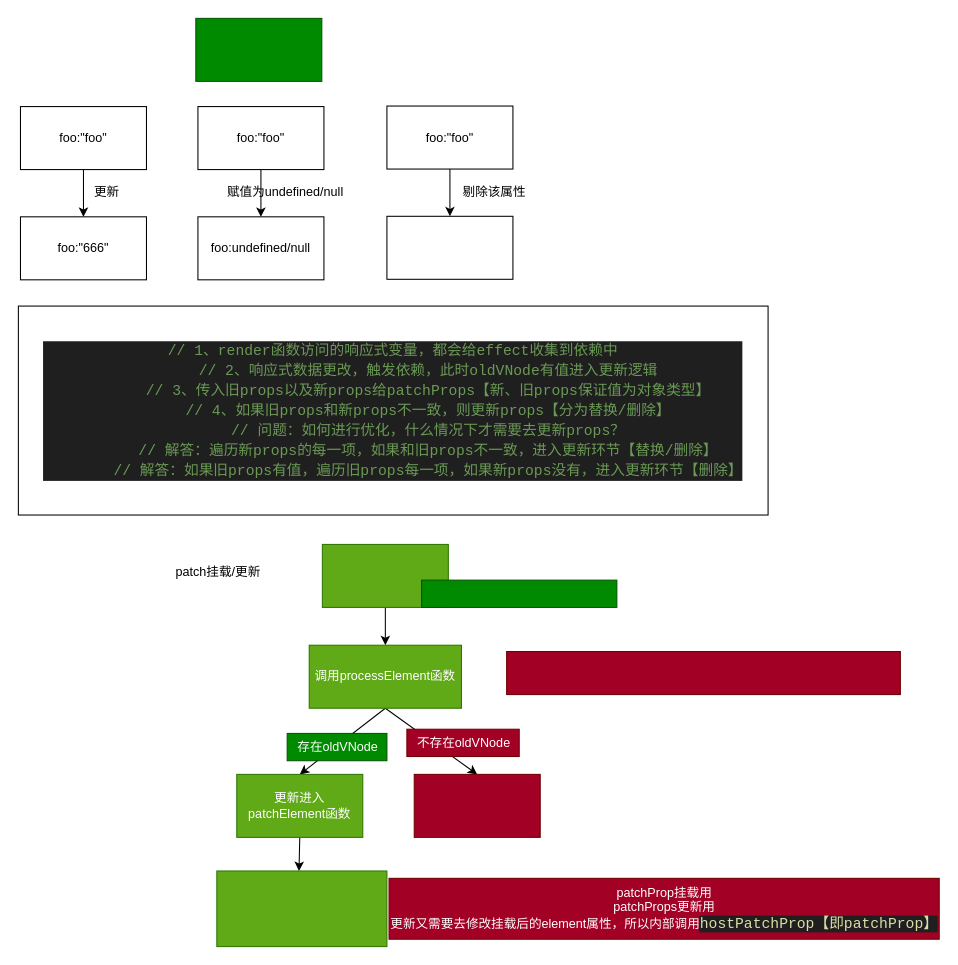
Some shapes in this 958 by 965 pixel diagram are drawn without their labels. The shapes that lost their labels are listed below. From the top down, each one's centre as x and y in pixels, then its label:
point 258,49: 更新element的props
point 384,575: 调用patch
point 519,593: 传入旧虚拟节点，进入更新环节
point 703,672: process函数系列 用oldVNode判断走挂载还是更新流程，并且挂载不需要传oldVNode
point 476,805: 首次挂载进入mountElement函数
point 301,908: 进入patchProps函数，内部调用 hostPatchProp进行更新
